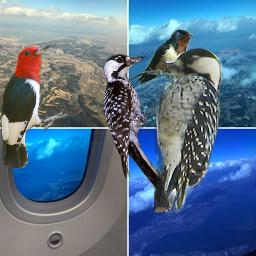Swallow: (125, 29, 194, 84)
Woodpecker: (154, 47, 222, 213), (102, 54, 163, 196), (0, 44, 67, 168)
